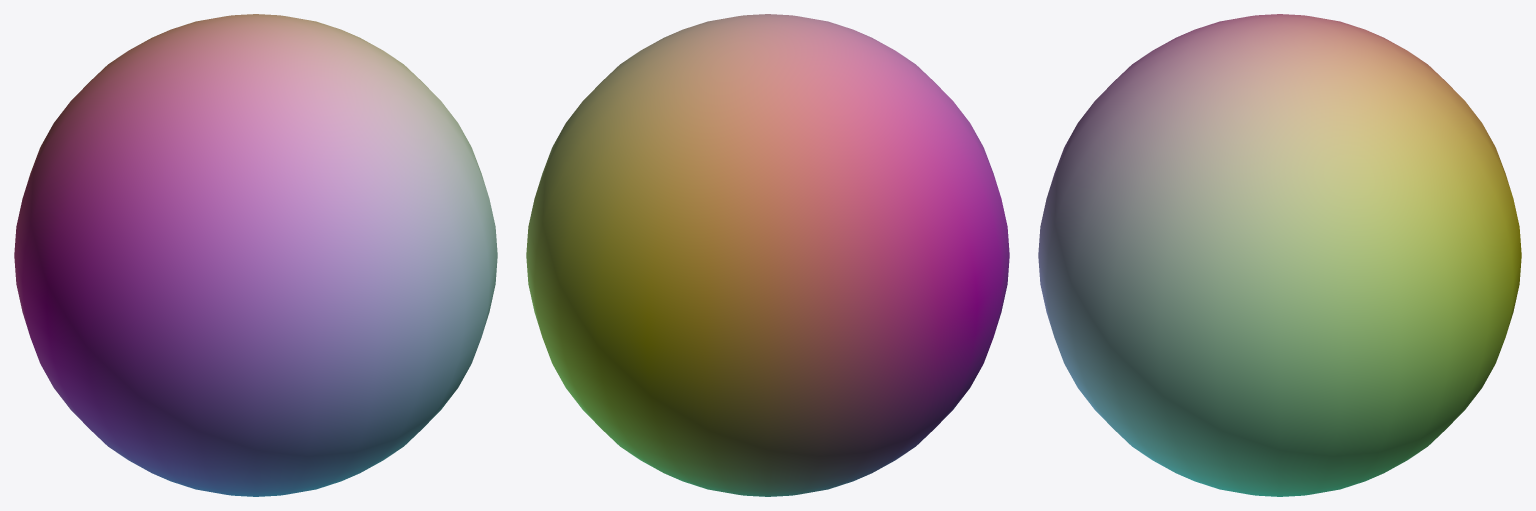
Rendered from colored-sphere.glb.
The picture shows the model from 3 angles, left to right: view 1: azimuth 30°, elevation 25°; view 2: azimuth 150°, elevation 25°; view 3: azimuth 270°, elevation 25°; orthographic projection.
Visible parts, largest first — view 1: Sphere; view 2: Sphere; view 3: Sphere.
Part boxes in pixels (bbox=[...]): Sphere: bbox=[14, 14, 497, 496]; Sphere: bbox=[526, 14, 1009, 496]; Sphere: bbox=[1038, 14, 1521, 496].
Bounding box in the file's own units: 1.6 × 1.6 × 1.6.
